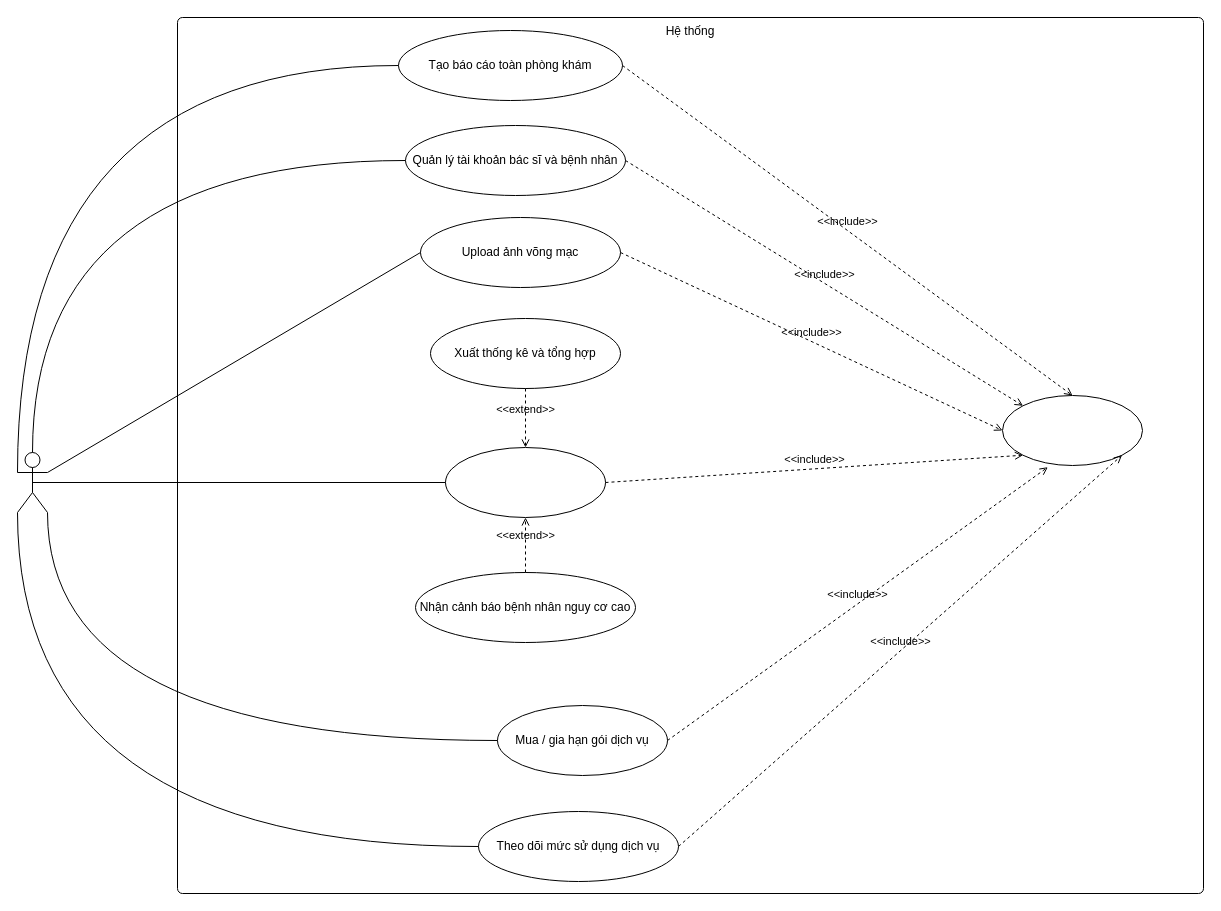
Some shapes in this 1221 by 911 pixel diagram are drawn without their labels. The shapes that lost their labels are listed below. From the top down, each one's box as (x1, y1, x2, y2) in pixels, then its label:
(1002, 394, 1142, 466): Đăng nhập hệ thống
(16, 452, 48, 512): Clinic
(444, 446, 606, 518): Theo dõi báo cáo tổng hợp
